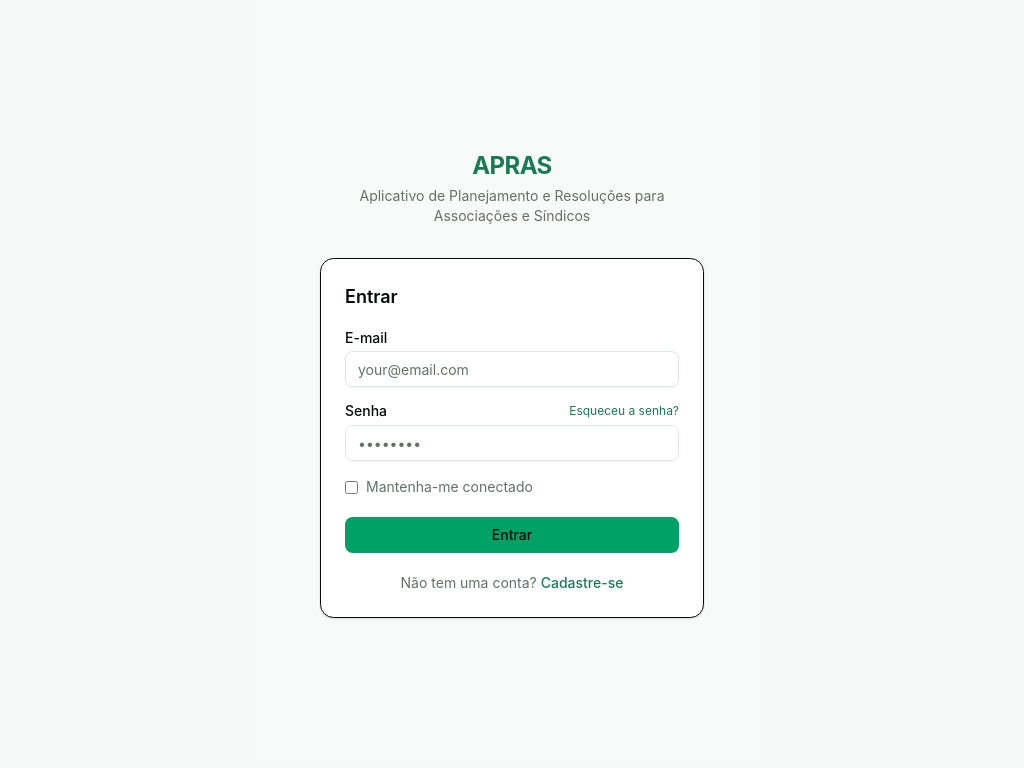
Test case: LoginPage › shows specific message for inactive user
In the field labelled "E-mail": {"x": 512, "y": 369} [345,351,679,387], type "inactive@test.com"
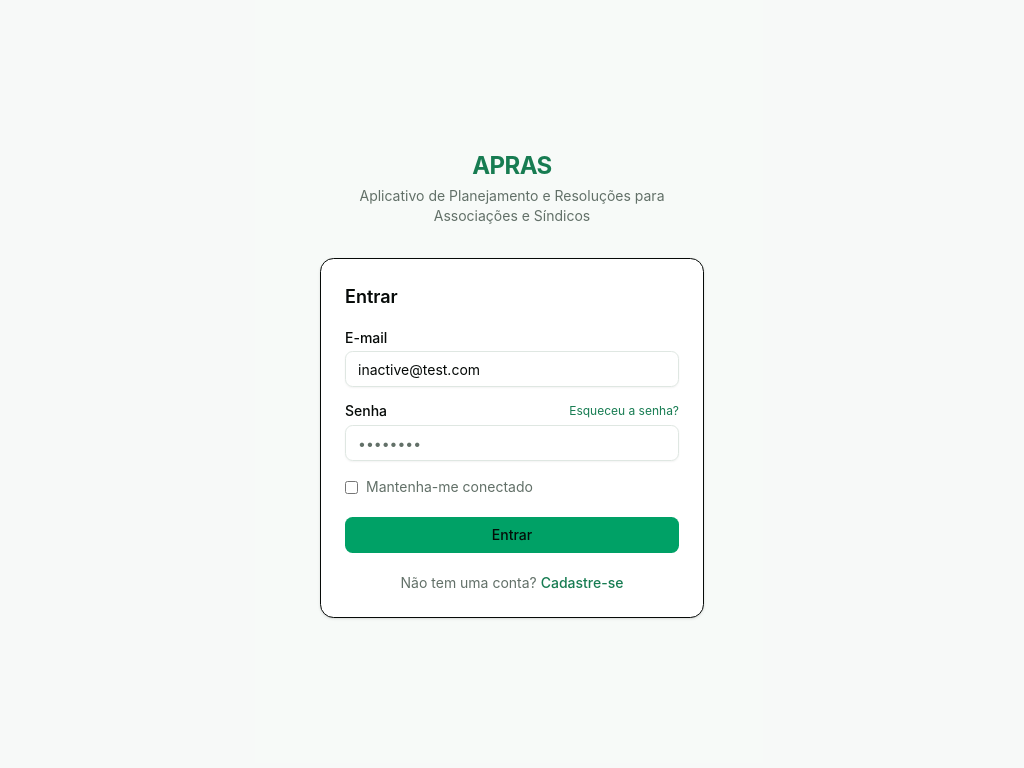
In the password field labelled "Senha": {"x": 512, "y": 443} [345,425,679,461], type "pass"
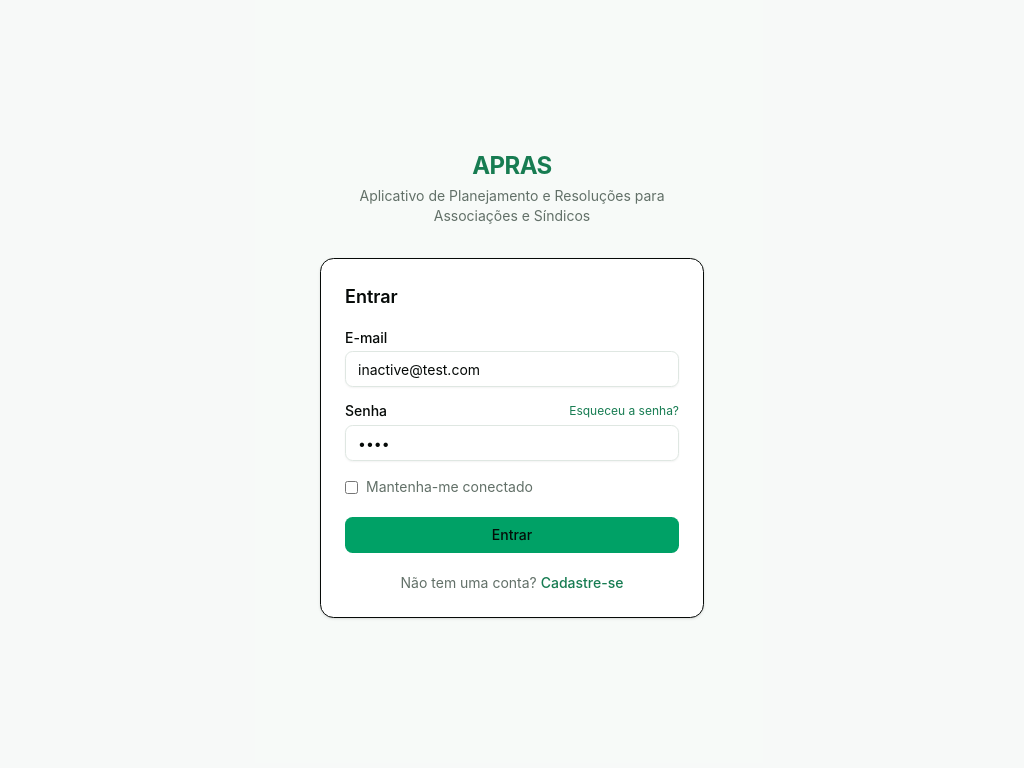
Click the button "Entrar": {"x": 512, "y": 535} [345,517,679,553]
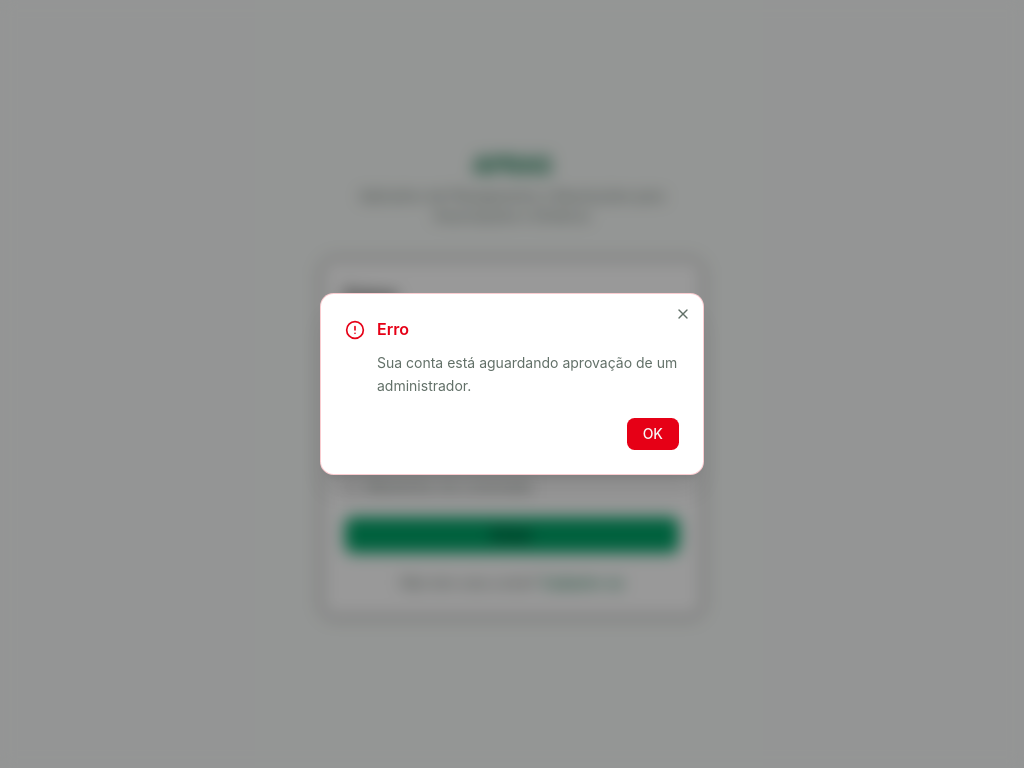
Expected: the text "Sua conta está aguardando aprovação de um administrador." is shown, [345,352,679,398]
